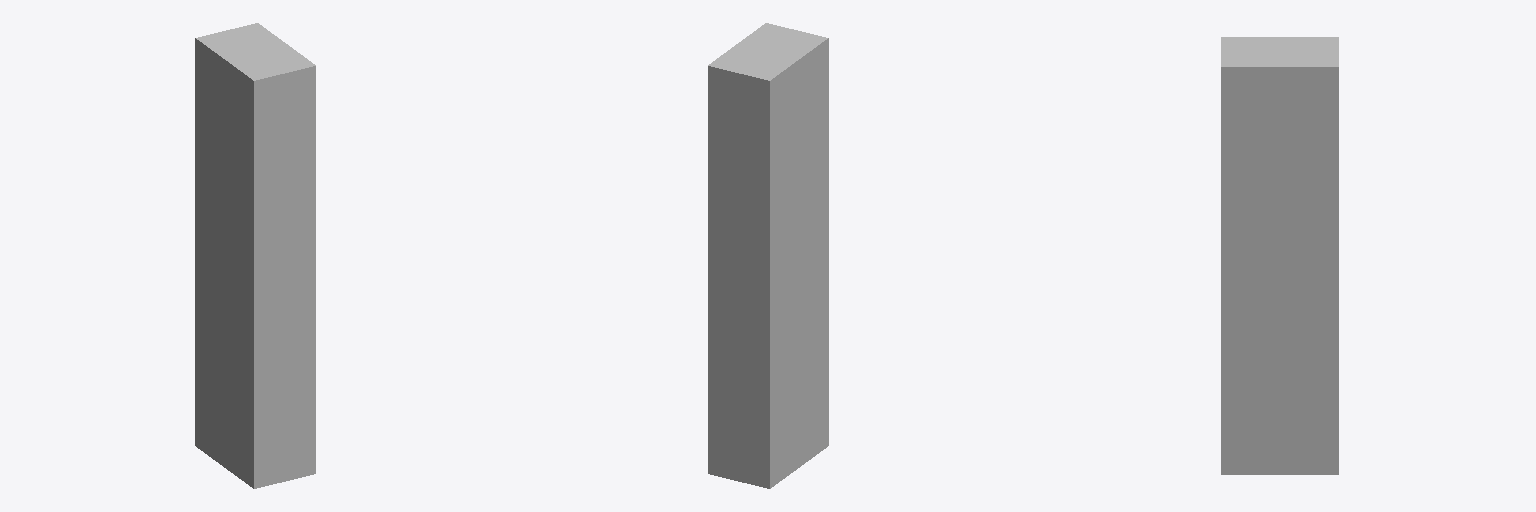
File: Building_one.obj
The picture shows the model from 3 angles: view 1: azimuth 30°, elevation 25°; view 2: azimuth 150°, elevation 25°; view 3: azimuth 270°, elevation 25°; orthographic projection.
Visible parts, largest first — view 1: pCube1; view 2: pCube1; view 3: pCube1, pPlane5, pPlane16, pPlane15, pPlane14, pPlane10, pPlane6, pPlane9, pPlane8, pPlane7, pPlane13, pPlane11 (+1 smaller).
Boxes of the visible parts, x1=… form: pCube1: x1=195, y1=23, x2=315, y2=488; pCube1: x1=708, y1=23, x2=828, y2=488; pCube1: x1=1221, y1=37, x2=1338, y2=474; pPlane5: x1=1229, y1=184, x2=1256, y2=205; pPlane16: x1=1231, y1=249, x2=1258, y2=270; pPlane15: x1=1231, y1=318, x2=1258, y2=339; pPlane14: x1=1231, y1=386, x2=1258, y2=407; pPlane10: x1=1299, y1=184, x2=1326, y2=205; pPlane6: x1=1229, y1=82, x2=1256, y2=102; pPlane9: x1=1299, y1=82, x2=1326, y2=102; pPlane8: x1=1299, y1=128, x2=1326, y2=148; pPlane7: x1=1229, y1=128, x2=1256, y2=148; pPlane13: x1=1299, y1=385, x2=1326, y2=405; pPlane11: x1=1299, y1=246, x2=1326, y2=266.
Bounding box in the file's own units: 4.86 × 30.34 × 7.89.